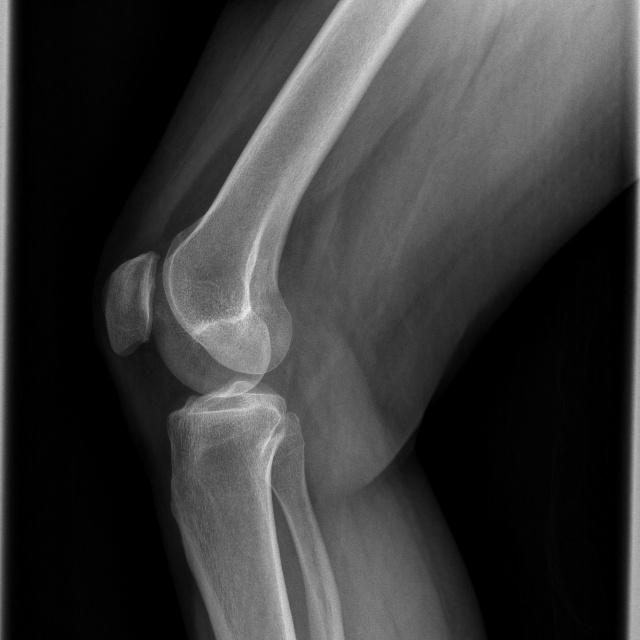Knee: (102, 242, 312, 465)
